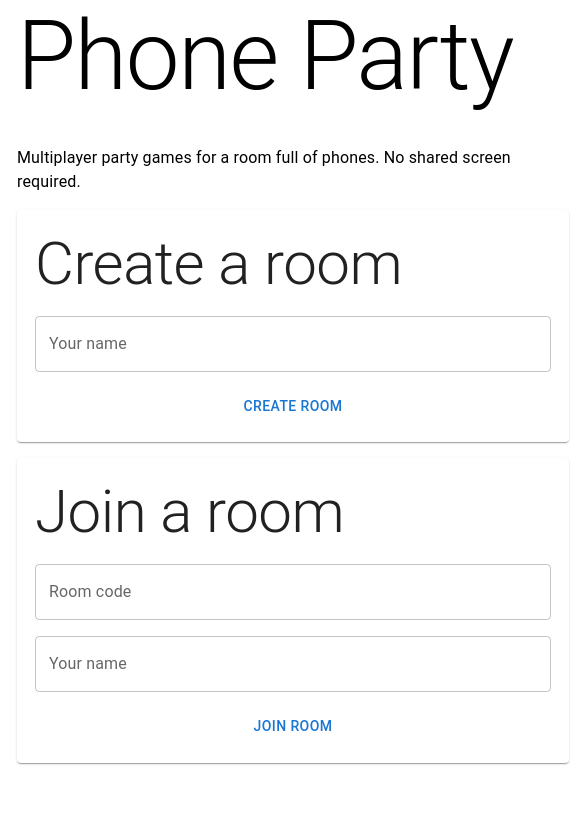
Test: home page › validates the join form
Click the button "Join room" at (293, 726), box [35,708,551,745]
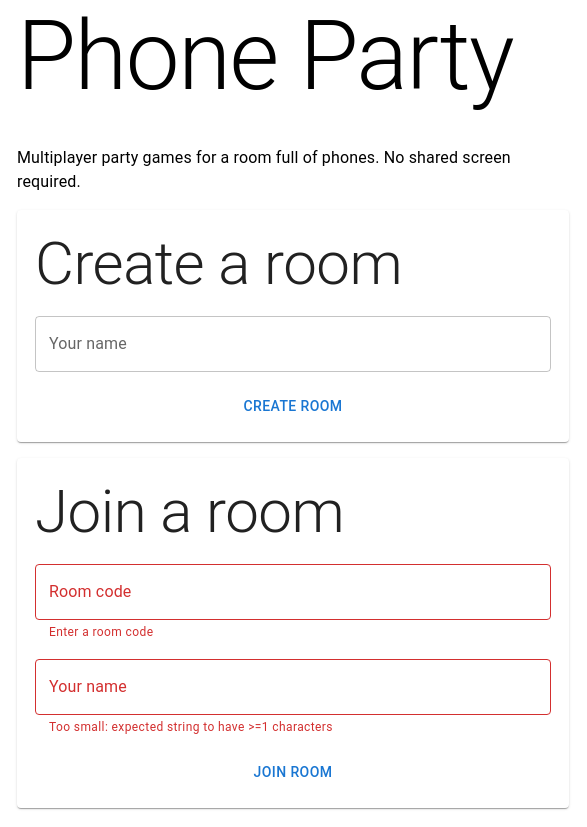
Now the text "Enter a room code" is shown, box [49,625,154,639]
